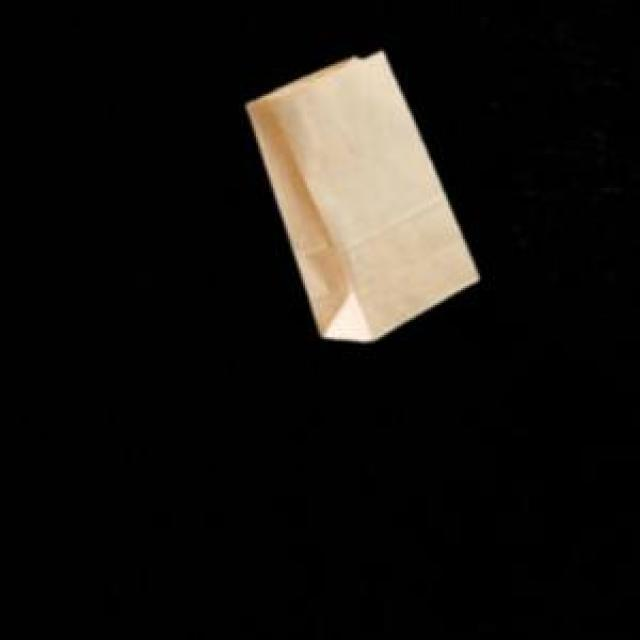paper: (243, 49, 474, 337)
